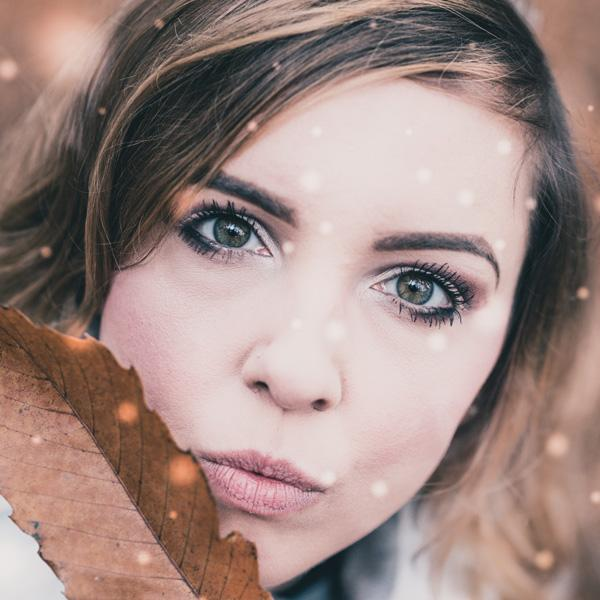Eyes: (170, 193, 280, 274), (365, 254, 481, 329)
